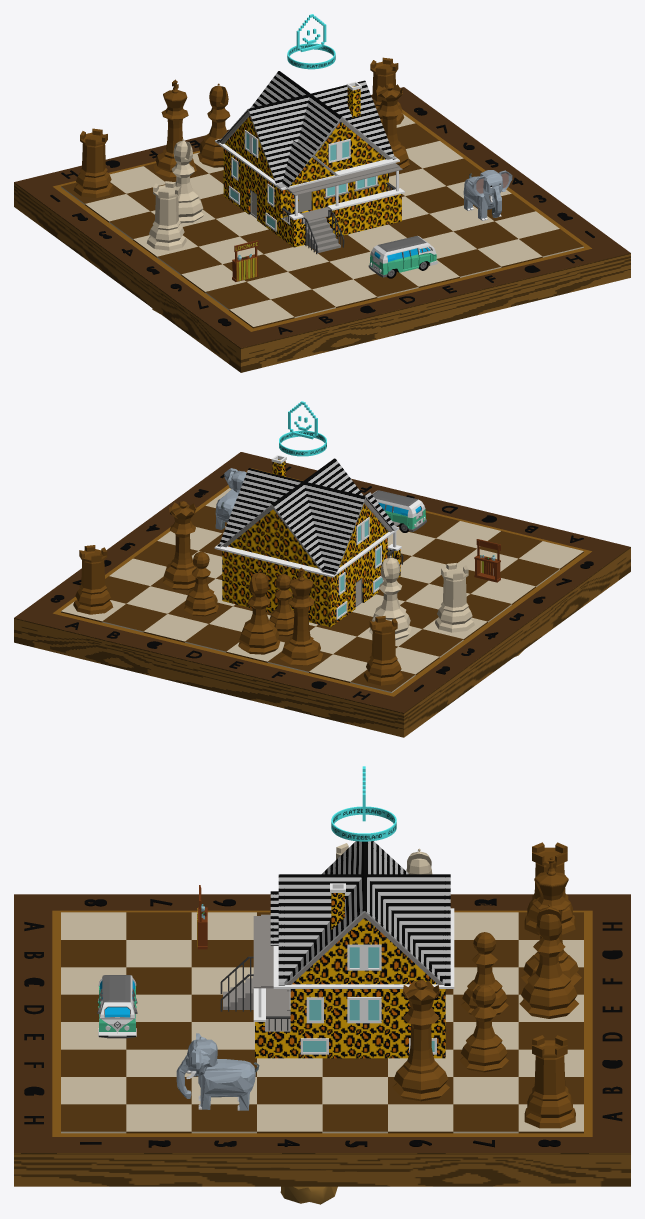
The picture shows the model from 3 angles, top to bottom: view 1: azimuth 30°, elevation 25°; view 2: azimuth 150°, elevation 25°; view 3: azimuth 270°, elevation 25°; orthographic projection. The views are drawn at different scales.
Visible parts, largest first — view 1: Cube.002, Cube.637, VEHICLES_VAN, ANIMAL_ELEFANTE, TYPE_PREMIUM, OBJRANDOM_LEMONADE_STAND; view 2: Cube.002, Cube.637, VEHICLES_VAN, TYPE_PREMIUM, ANIMAL_ELEFANTE, OBJRANDOM_LEMONADE_STAND; view 3: Cube.002, Cube.637, ANIMAL_ELEFANTE, VEHICLES_VAN, TYPE_PREMIUM, UNDERGROUND_T_REX_BONES.
Part boxes in pixels (x1,y1,x2,y2): Cube.002: (14, 57, 630, 372); Cube.637: (215, 71, 404, 254); VEHICLES_VAN: (368, 235, 437, 278); ANIMAL_ELEFANTE: (463, 170, 512, 220); TYPE_PREMIUM: (287, 14, 335, 69); OBJRANDOM_LEMONADE_STAND: (232, 240, 258, 281); Cube.002: (14, 452, 630, 737); Cube.637: (214, 455, 403, 627); VEHICLES_VAN: (372, 490, 426, 532); TYPE_PREMIUM: (279, 401, 326, 456); ANIMAL_ELEFANTE: (215, 468, 246, 529); OBJRANDOM_LEMONADE_STAND: (474, 539, 500, 582); Cube.002: (14, 842, 630, 1186); Cube.637: (220, 841, 454, 1058); ANIMAL_ELEFANTE: (176, 1033, 259, 1110); VEHICLES_VAN: (97, 975, 137, 1038); TYPE_PREMIUM: (331, 766, 396, 841); UNDERGROUND_T_REX_BONES: (280, 1186, 337, 1204).
Size of the model in its own units: 3981 by 2291 by 4012.
42 materials, 4 textured.
